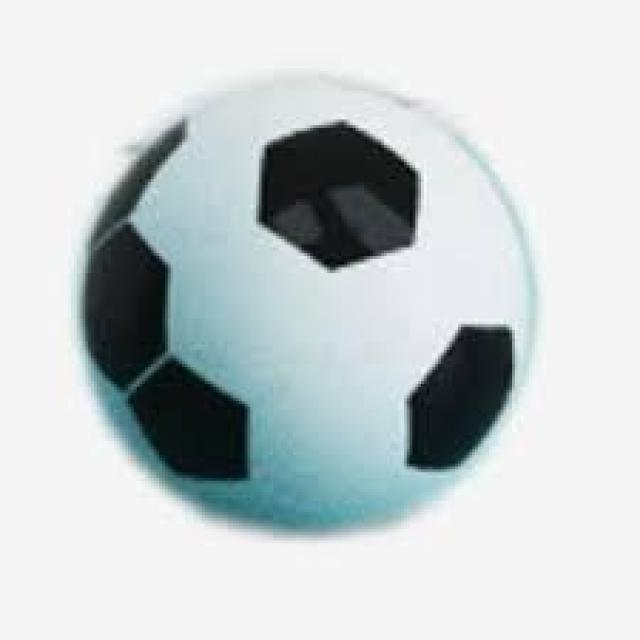Soccer Ball: (80, 68, 534, 540)
